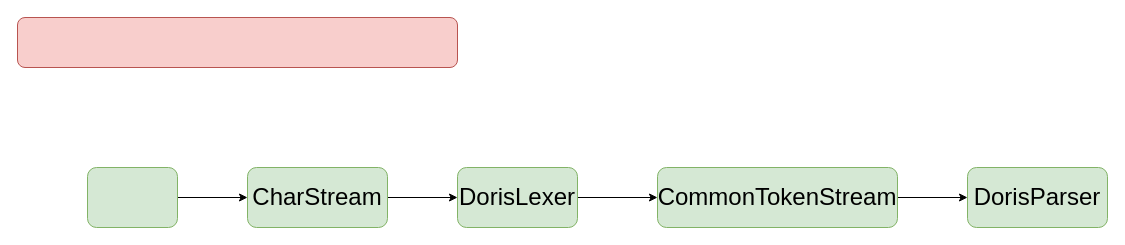
Image size: 1125x245. Some labels were removed from this diagram. Each missing label, with the box of its shape:
DorisParser 解析器的数据类型转换流程: (16, 16, 458, 68)
String: (86, 166, 178, 228)
